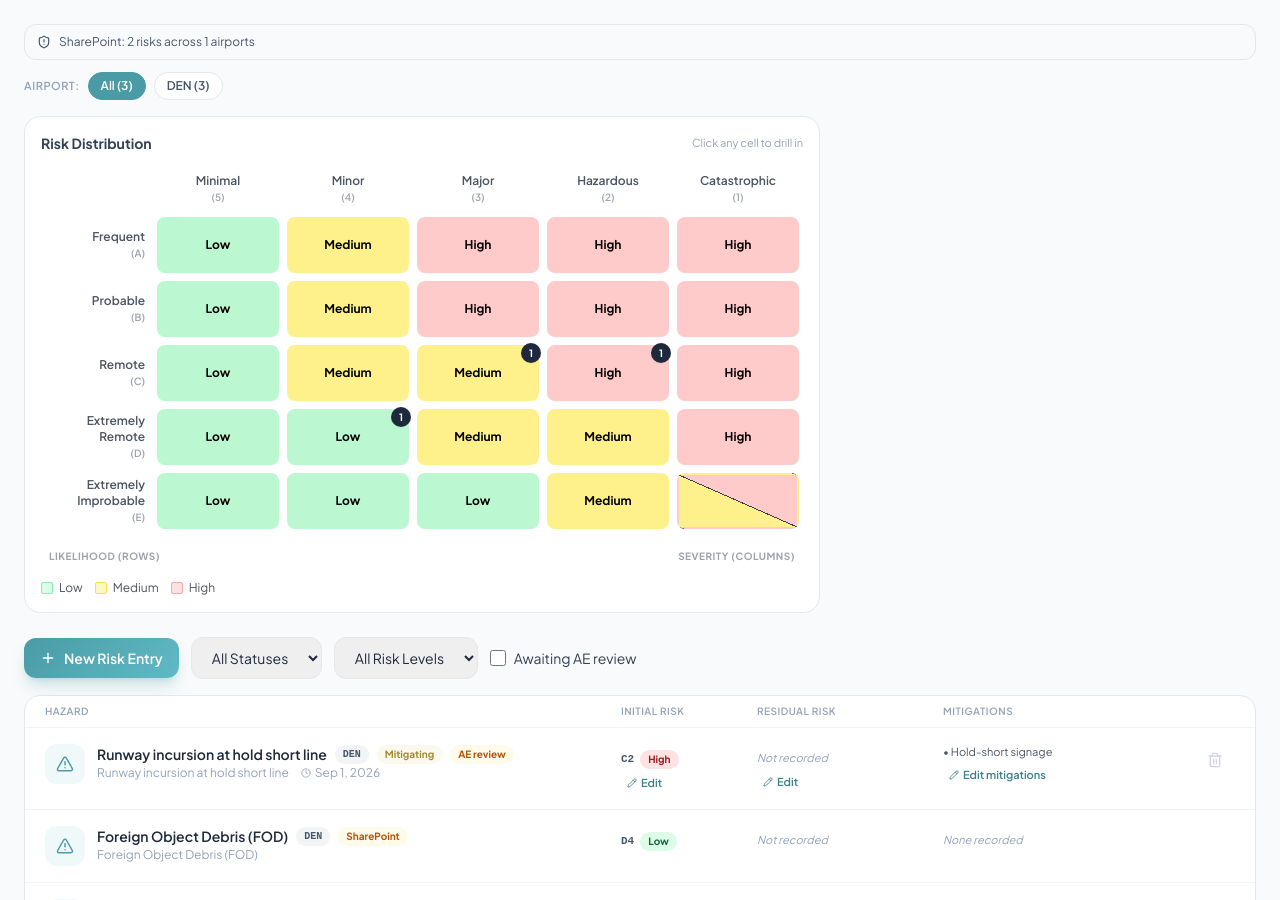
it: RiskListView filters › says so when no row matches the filters
Select "Closed" in the 1st dropdown showing "All Statuses": {"x": 256, "y": 658} [191,637,322,679]
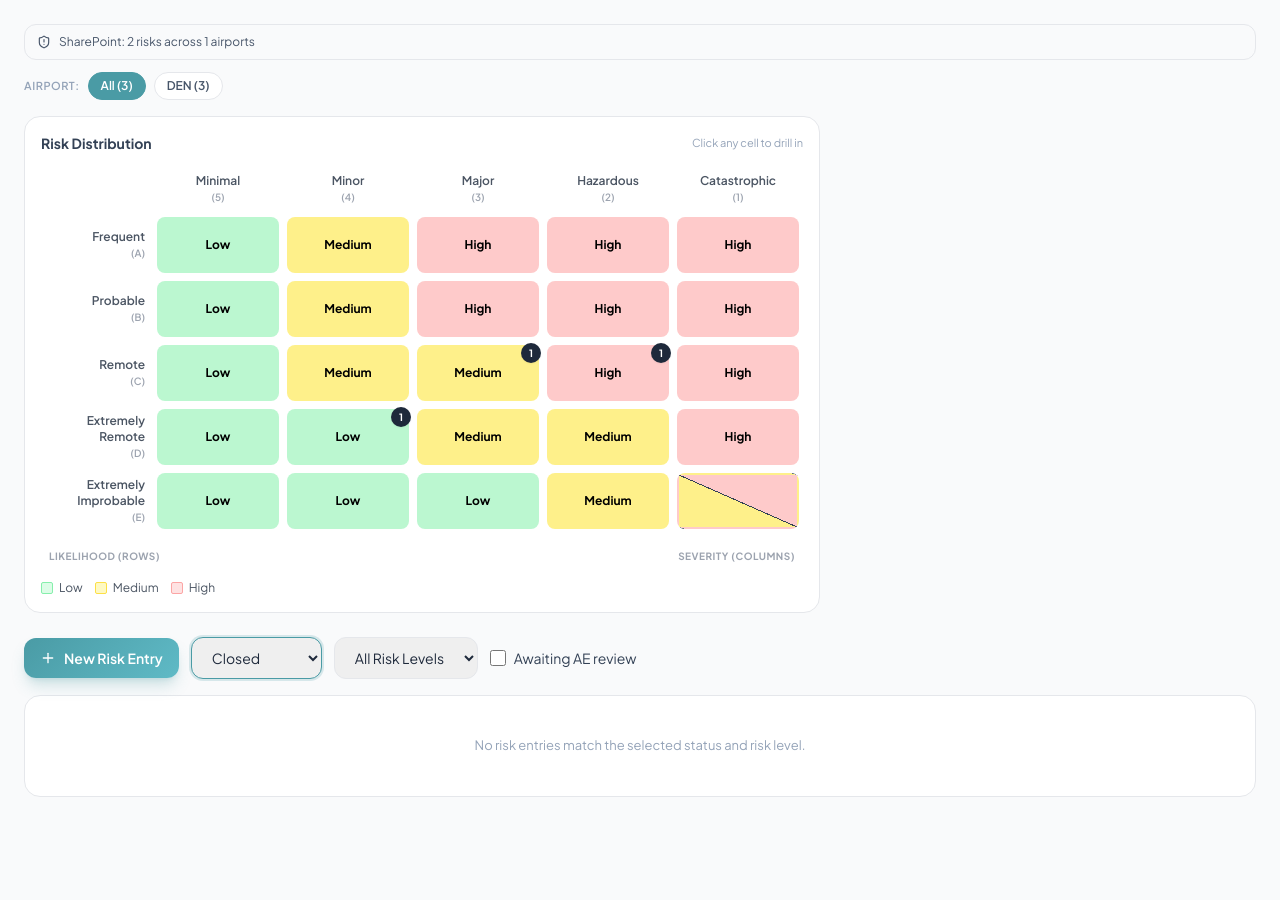
Expected: the text "No risk entries match the selected status and risk level." is shown, [475,737,805,753]
